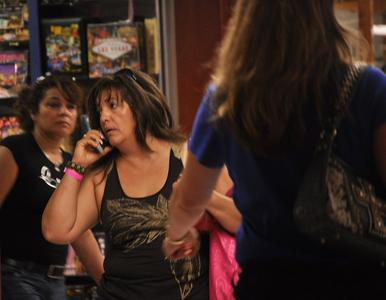person: (42, 68, 241, 300)
